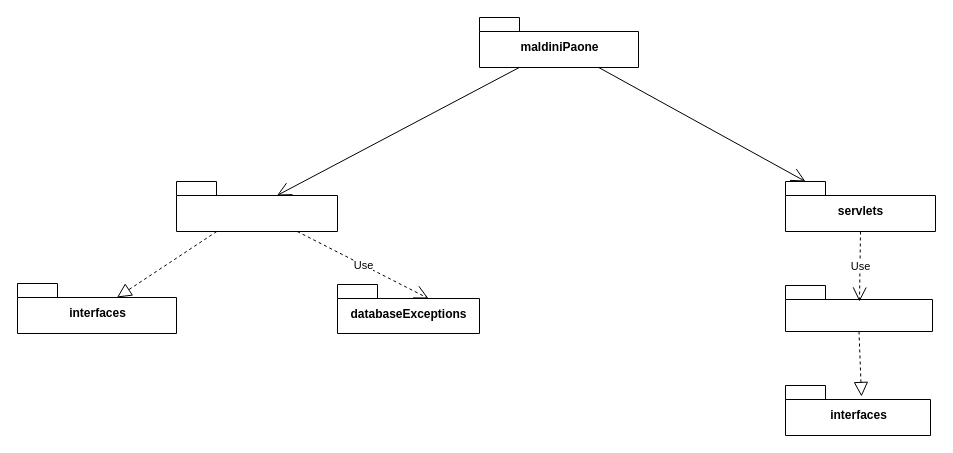
The diagram is 953 pixels wide and 453 high, and some of its shapes have lost their labels. Each missing label, with the centre of its shape:
"dataBaseConnection" goes at [257,206].
"managers" goes at [858,308].
